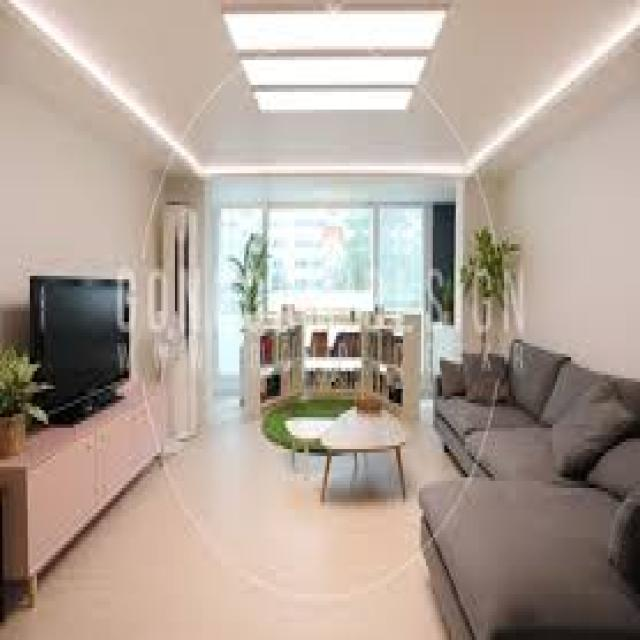Sofa: (419, 350, 640, 640)
Table: (319, 398, 415, 502)
tv: (26, 271, 137, 413)
window: (214, 189, 454, 336)
